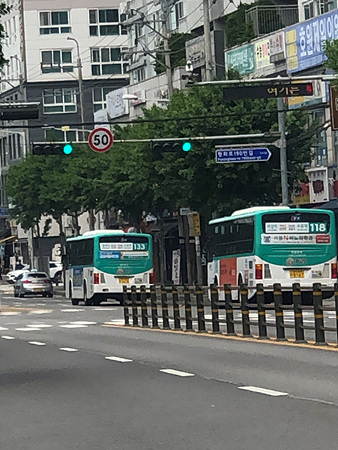bnum: (308, 220, 328, 233)
